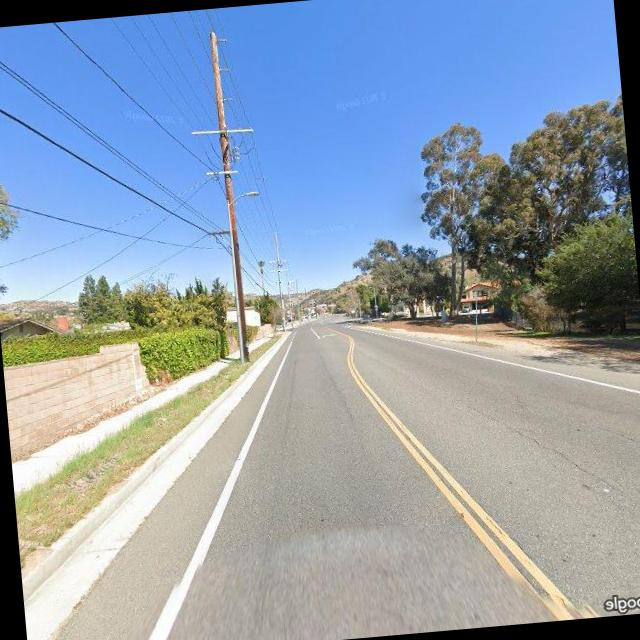pothole: (472, 386, 628, 504)
